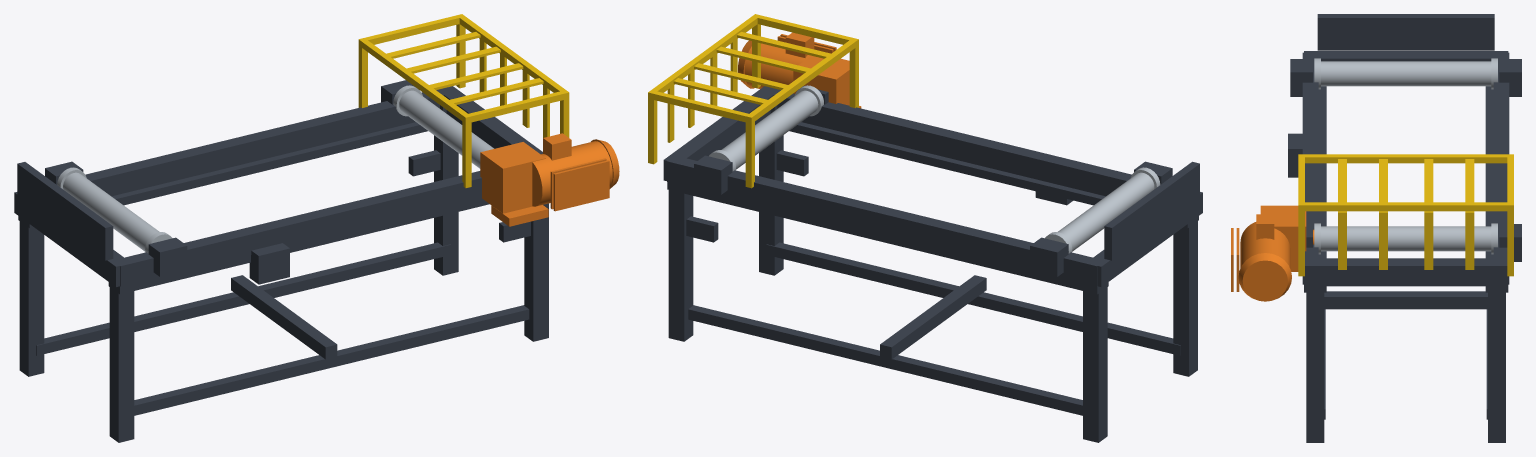
The model's file is palletizer-placeholder.glb.
3 renders of one model, left to right at view 1: azimuth 30°, elevation 25°; view 2: azimuth 150°, elevation 25°; view 3: azimuth 270°, elevation 25°, orthographic.
Parts seen in each view (by area): view 1: PN-FRAME-1000, PN-GRD-5503, PN-MTR-3301, PN-ROLL-2104 (×2); view 2: PN-FRAME-1000, PN-GRD-5503, PN-ROLL-2104 (×2), PN-MTR-3301; view 3: PN-FRAME-1000, PN-GRD-5503, PN-ROLL-2104 (×2), PN-MTR-3301.
Boxes of the visible parts, x1,y1,x2,y2 form: PN-FRAME-1000: [14, 80, 548, 442]; PN-GRD-5503: [358, 14, 569, 187]; PN-MTR-3301: [480, 133, 619, 226]; PN-ROLL-2104 (×2): [57, 85, 493, 253]; PN-FRAME-1000: [663, 86, 1202, 442]; PN-GRD-5503: [648, 14, 858, 188]; PN-ROLL-2104 (×2): [709, 85, 1160, 253]; PN-MTR-3301: [738, 32, 861, 108]; PN-FRAME-1000: [1288, 14, 1521, 442]; PN-GRD-5503: [1298, 154, 1513, 276]; PN-ROLL-2104 (×2): [1314, 58, 1497, 254]; PN-MTR-3301: [1231, 205, 1314, 301].
Size of the model in its own units: 2.44 by 1.2 by 1.28.
